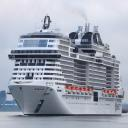cruises: (7, 15, 126, 118)
